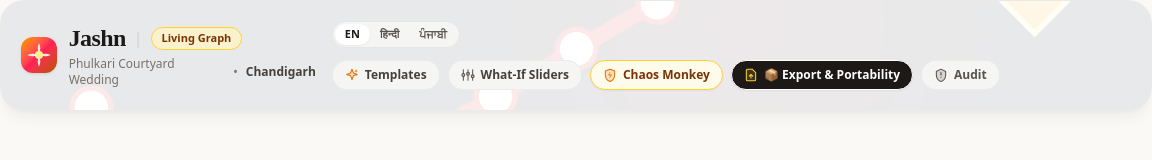
Test: AppHeader Component › toggles language between English, Hindi, and Punjabi updating nav labels and badges
expect the text "Living Graph" is shown: met, box [150,27,242,50]
expect the button "Templates" is shown: met, box [332,60,440,90]
Click the button "हिन्दी".
click(390, 34)  # box [370,24,409,44]
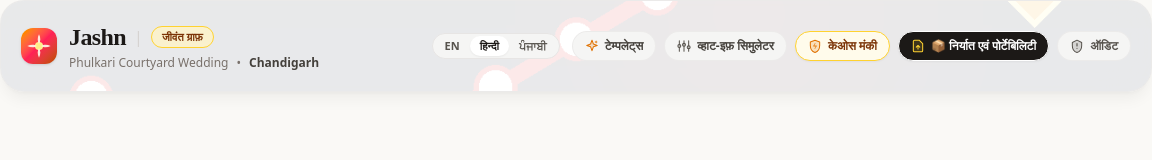
expect the text "जीवंत ग्राफ़" is shown: met, box [151,26,214,48]
expect the button "टेम्पलेट्स" is shown: met, box [572,31,656,61]
expect the button "केओस मंकी" is shown: met, box [795,31,890,61]
Click the button "ਪੰਜਾਬੀ".
click(533, 46)  # box [509,36,557,56]
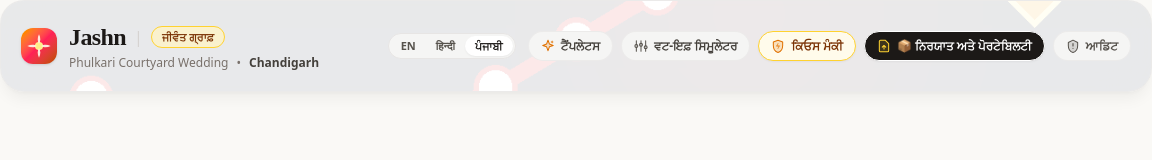
expect the text "ਜੀਵੰਤ ਗ੍ਰਾਫ਼" is shown: met, box [151,26,225,48]
expect the button "ਟੈਂਪਲੇਟਸ" is shown: met, box [528,31,613,61]
expect the button "ਕਿਓਸ ਮੰਕੀ" is shown: met, box [758,31,856,61]
Click the button "EN".
click(408, 46)  # box [391,36,426,56]
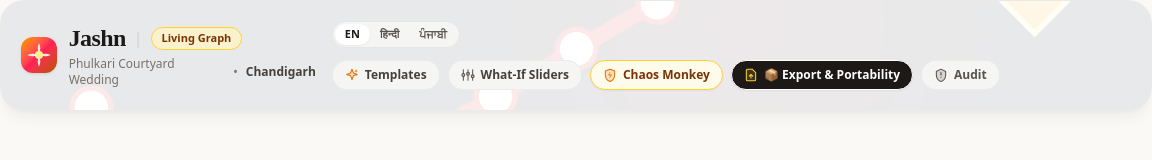
expect the text "Living Graph" is shown: met, box [150,27,242,50]
